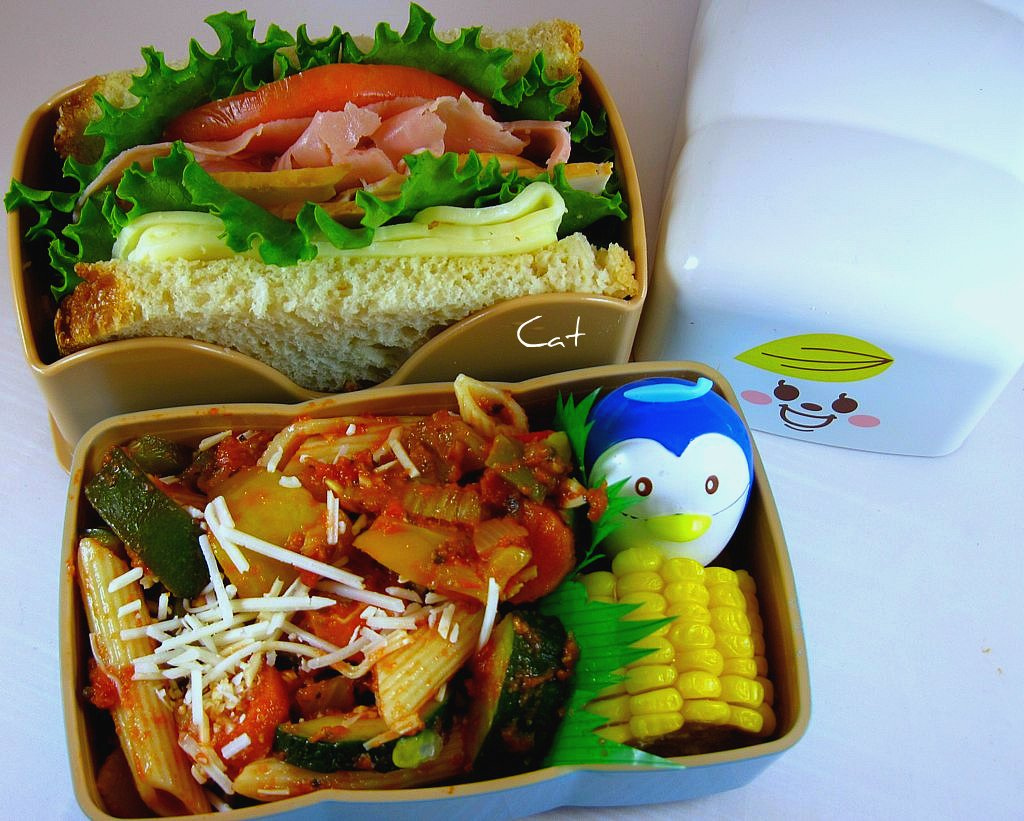chopped lettuce: (67, 26, 575, 107)
slice of bread: (49, 241, 672, 401)
